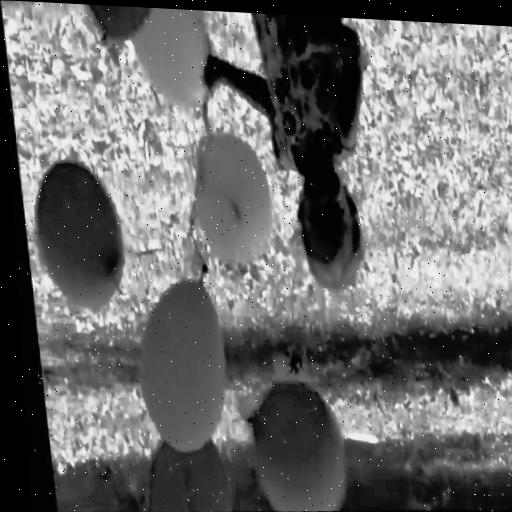balloon: (124, 274, 230, 453), (26, 157, 124, 312), (244, 383, 342, 512), (185, 140, 273, 266), (127, 7, 208, 113), (133, 434, 226, 512), (86, 4, 155, 47)
